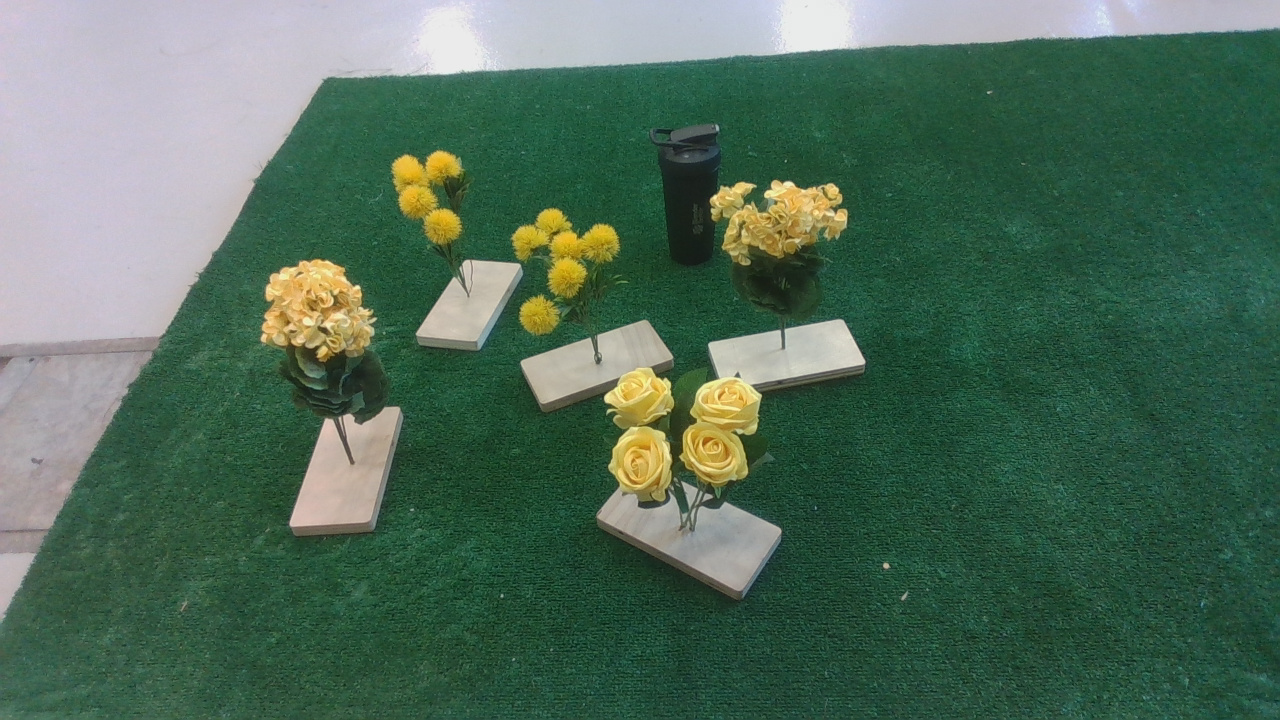dandelion: (514, 208, 630, 348), (382, 144, 481, 257)
geranium: (261, 256, 398, 424), (711, 182, 861, 314)
rose: (609, 373, 774, 504)
